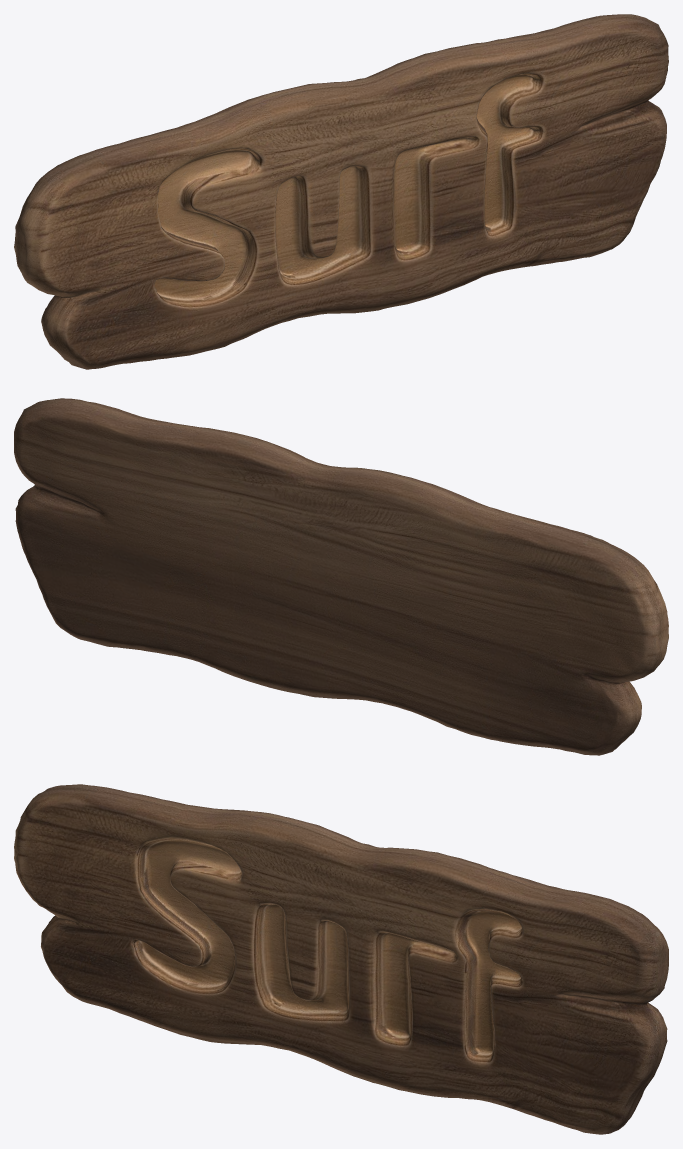
The model's file is sign.glb.
3 renders of one model, top to bottom at view 1: azimuth 30°, elevation 25°; view 2: azimuth 150°, elevation 25°; view 3: azimuth 330°, elevation 25°, orthographic.
Visible parts, largest first — view 1: mesh_node; view 2: mesh_node; view 3: mesh_node.
Boxes of the visible parts, x1=… form: mesh_node: x1=14, y1=14, x2=668, y2=369; mesh_node: x1=14, y1=398, x2=668, y2=755; mesh_node: x1=14, y1=784, x2=668, y2=1134.
Bounding box in the file's own units: 1 × 0.3594 × 0.0605.
1 material, 1 textured.
